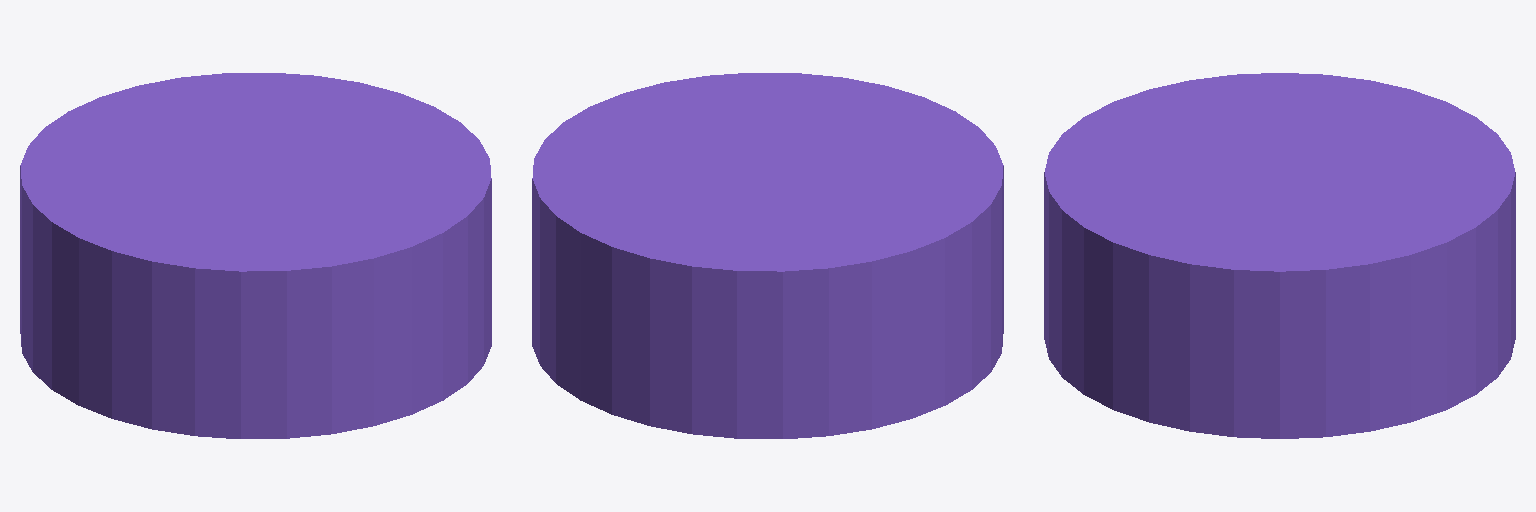
The robot description file, URDF, robot "cube":
<?xml version="1.0"?>
 <robot name="cube">
   <material name="purple">
     <color rgba="0.57647059 0.43921569 0.85882353 1"/>
   </material>
   <link name="base_link">
     <visual>
       <geometry>
         <cylinder length="0.03429" radius="0.043688"/>
       </geometry>
       <material name="purple"/>
       <origin xyz="0 0 0" rpy="0 0 0"/>
     </visual>
     <inertial>
       <mass value="0"/>
       <inertia ixx="1.0" ixy="0.0" ixz="0.0" iyy="1.0" iyz="0.0" izz="1.0"/>
     </inertial>
   </link>
 </robot>

--- Render facts (derived) ---
Views: 3 orthographic renders of the robot side by side, from view 1: azimuth 30°, elevation 25°; view 2: azimuth 150°, elevation 25°; view 3: azimuth 270°, elevation 25°.
Robot: cube — 1 links, 0 joints (none); root link base_link; default pose: all joints at 0.
Visible links, largest first — view 1: base_link; view 2: base_link; view 3: base_link.
Boxes of the visible links, <box> form: base_link: <box>20,73,491,438</box>; base_link: <box>532,73,1003,438</box>; base_link: <box>1044,73,1515,438</box>.
Size in the robot's own frame: 0.0874 by 0.0874 by 0.0343 metres.
Geometry: primitives only (box / cylinder / sphere), no mesh files.